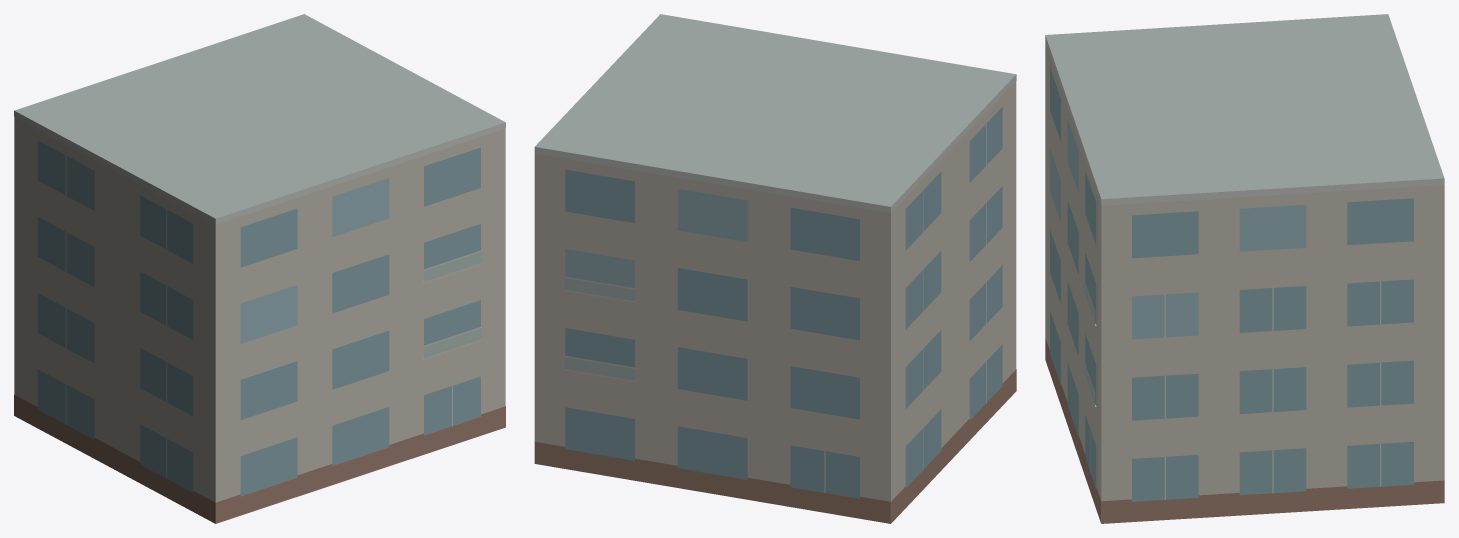
Rendered from residential-f80a377f-6773-4f5c-96ba-dacacf351dd8.glb.
The picture shows the model from 3 angles, left to right: view 1: azimuth 30°, elevation 25°; view 2: azimuth 150°, elevation 25°; view 3: azimuth 270°, elevation 25°; orthographic projection. The views are drawn at different scales.
Parts seen in each view (by area): view 1: residential-f80a377f-6773-4f5c-96ba-dacacf351dd8.tmp; view 2: residential-f80a377f-6773-4f5c-96ba-dacacf351dd8.tmp; view 3: residential-f80a377f-6773-4f5c-96ba-dacacf351dd8.tmp.
Part boxes in pixels (<box>): residential-f80a377f-6773-4f5c-96ba-dacacf351dd8.tmp: <box>14,14,505,523</box>; residential-f80a377f-6773-4f5c-96ba-dacacf351dd8.tmp: <box>534,14,1016,523</box>; residential-f80a377f-6773-4f5c-96ba-dacacf351dd8.tmp: <box>1045,14,1444,523</box>.
Size of the model in its own units: 14.93 by 12.2 by 13.6.
